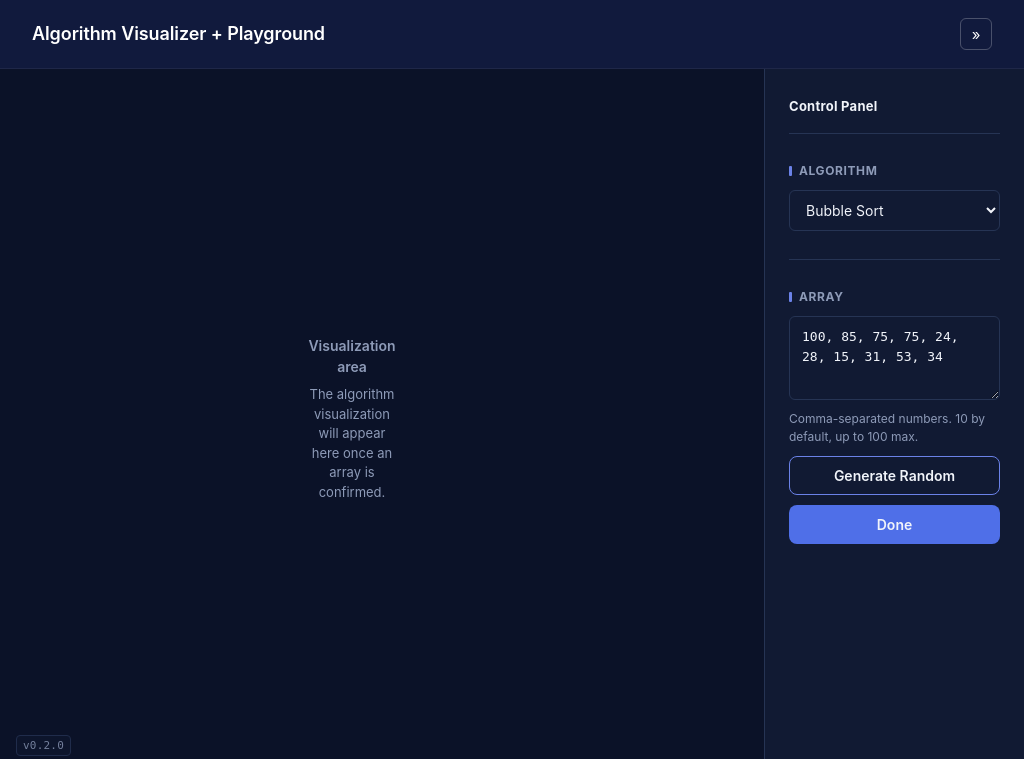
Test case: App — Statistics Panel placement › Statistics overlay is positioned on the left, Code View overlay remains on the right
This screenshot has width=1024, height=759.
Replace the text in the text box labelled "Array" with "8, 3, 5, 1" at point(894, 358), box [789,316,1000,400]
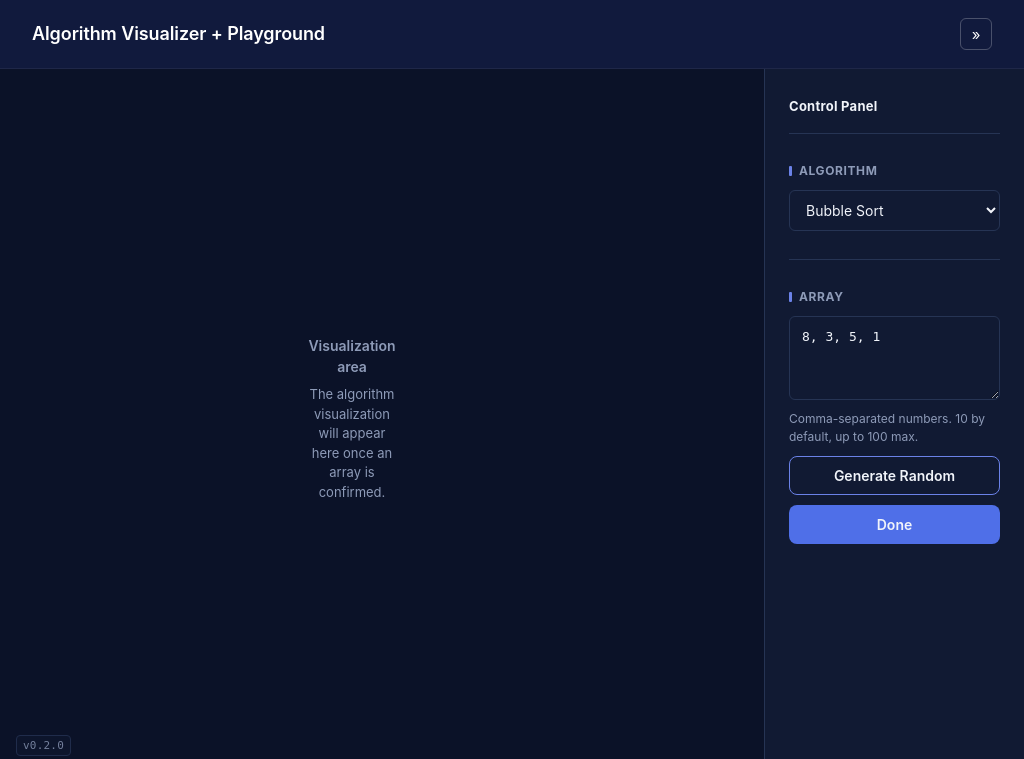
Click the button "Done".
click(894, 524)  # box [789,505,1000,544]
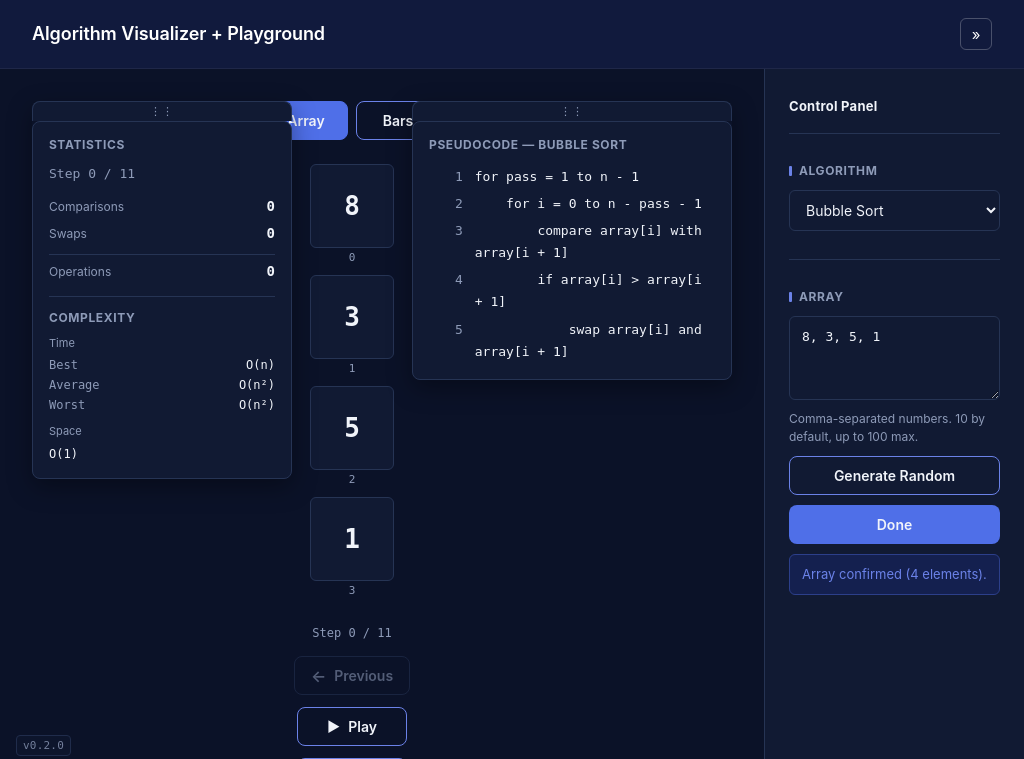
Now the element with class "statistics-panel-overlay" is shown, box [32,101,292,478]
Now the element with class "code-view-overlay" is shown, box [412,101,732,380]
